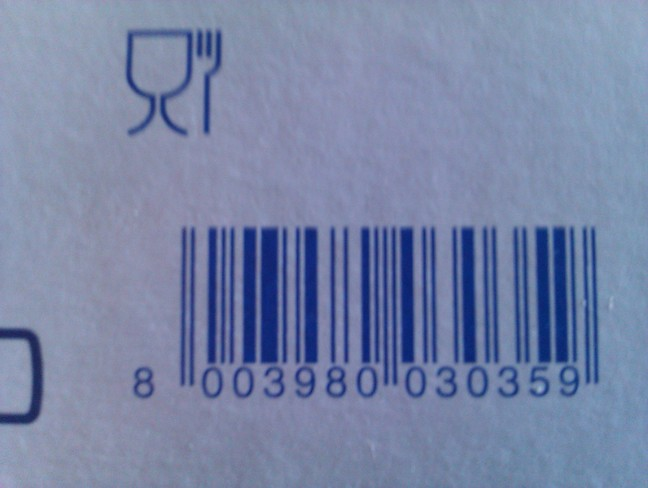detection: (116, 202, 615, 415)
